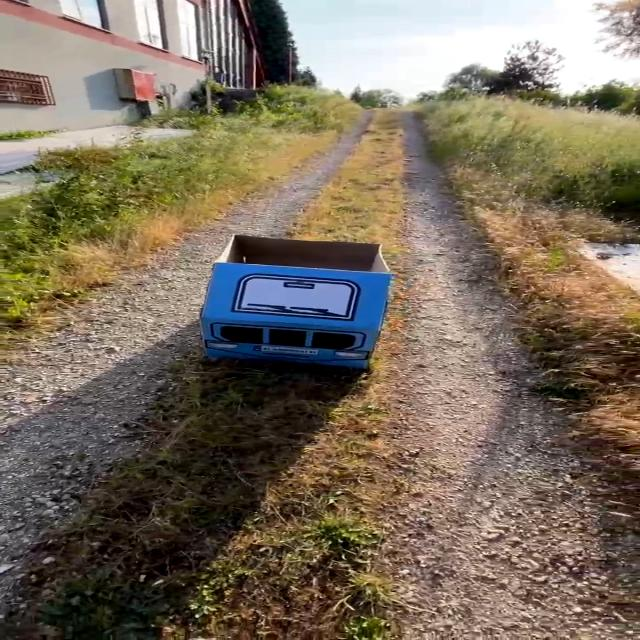blue_car: (171, 220, 434, 411)
